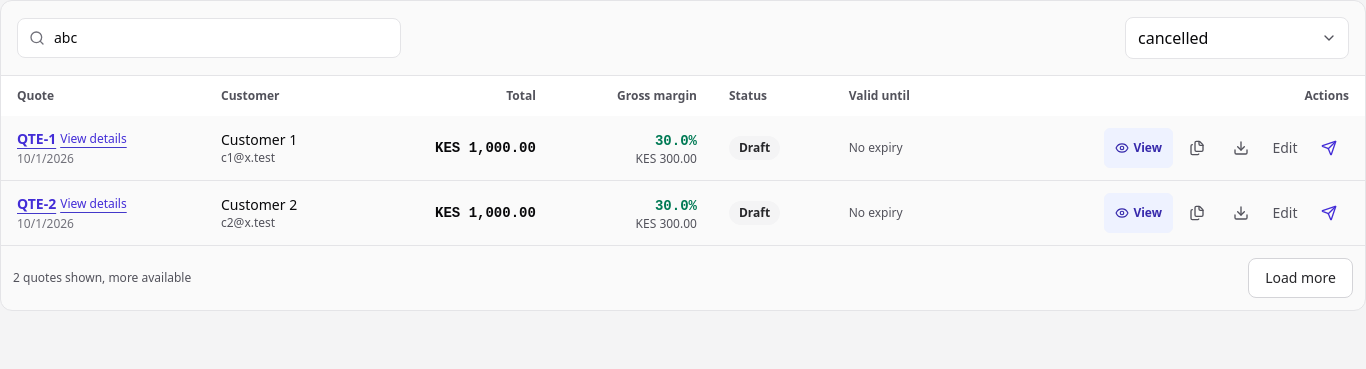
Test case: the quotes table › loads the next page with the same search and status, and adds it below
Check: the message shows "more available", box [102,269,191,286]
What coordinates should you click on to do the following:
click the button "Load more"
I would click on:
 (1301, 278)
Its box is [1248,258,1353,298].
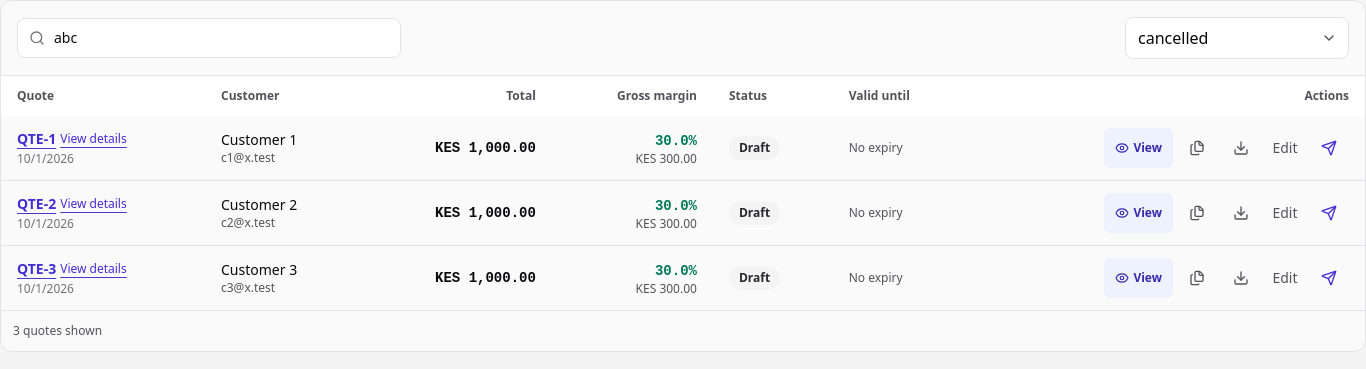
Check: the button "QTE-1 View details" is shown, box [17,129,127,149]
Check: the button "QTE-3 View details" is shown, box [17,259,127,279]
Check: the button "Load more" is gone
